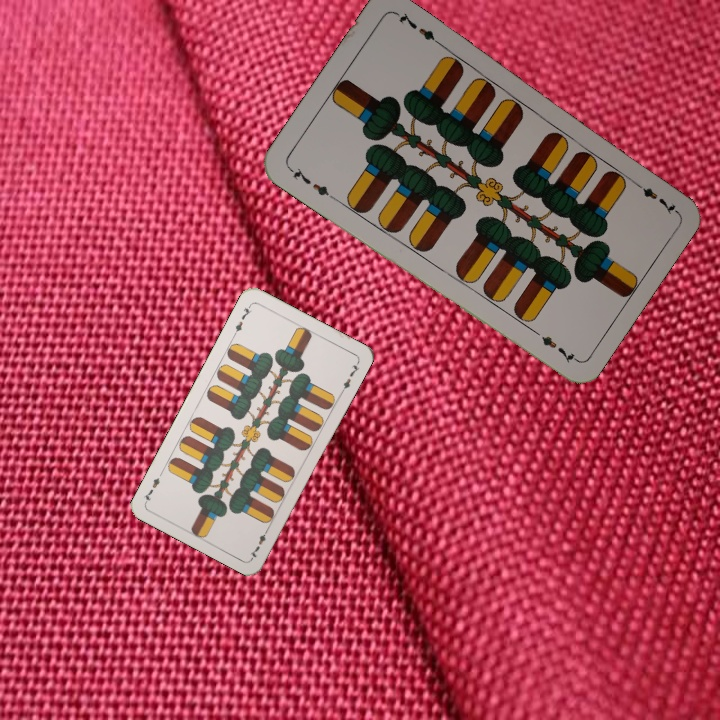E7: (627, 176, 679, 217), (284, 163, 337, 202), (245, 523, 272, 561), (229, 300, 254, 338)
